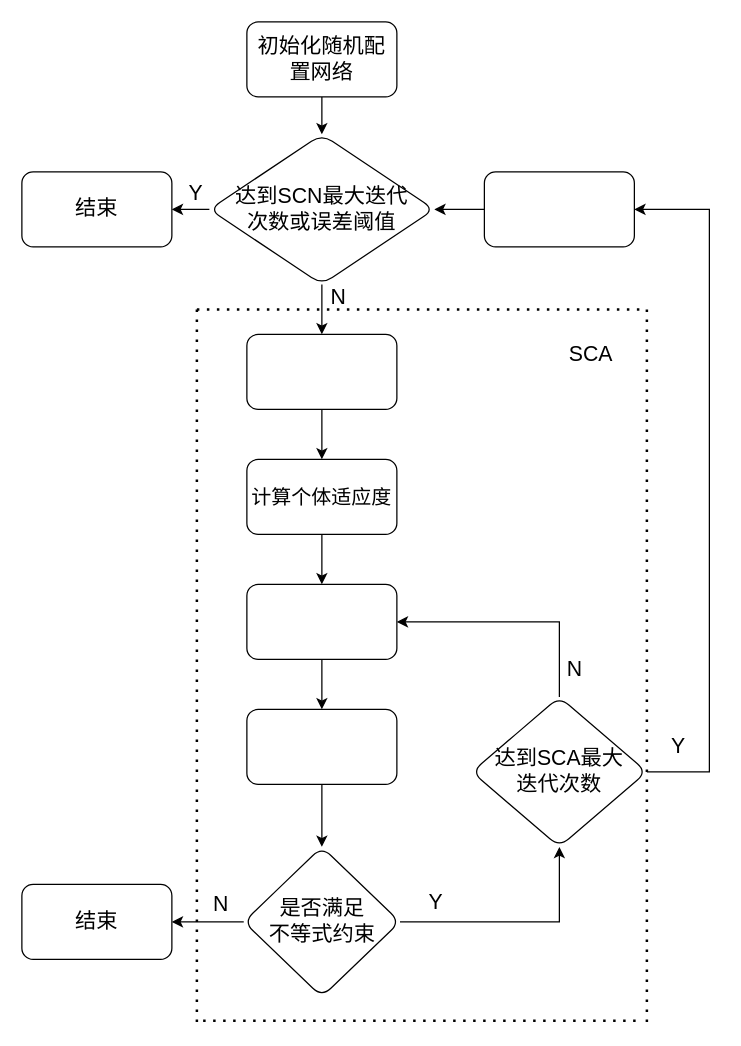
Some shapes in this 741 by 1046 pixel diagram are drawn without their labels. Here are the shapes that lost their labels. From the top down, the box of each, then its label:
(483, 171, 634, 247): 将节点加入网络
(246, 333, 397, 409): 初始化种群位置
(246, 583, 397, 659): 使用正余弦函数更新候选解
(246, 708, 397, 784): 更新适应度和最优解
